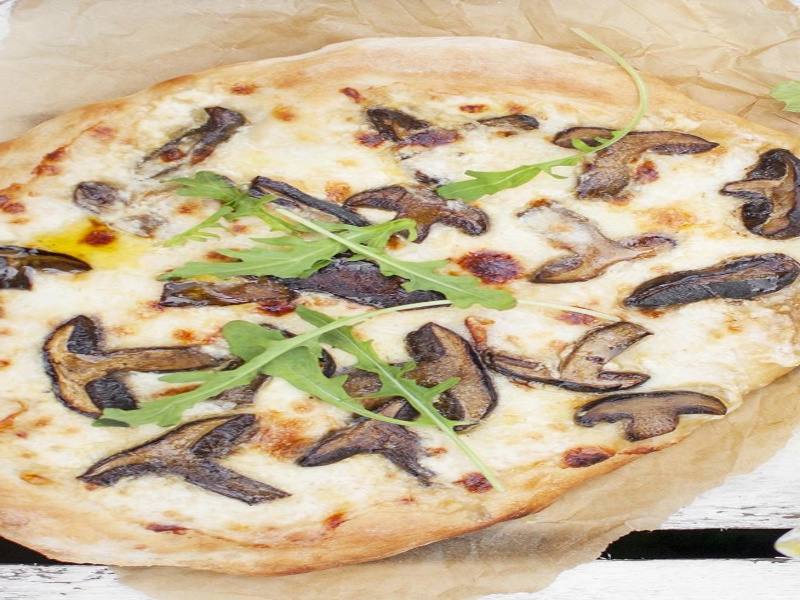champignon: (74, 411, 293, 512), (341, 318, 512, 437), (37, 317, 224, 424), (544, 115, 726, 206), (484, 318, 657, 394), (576, 387, 736, 444)
